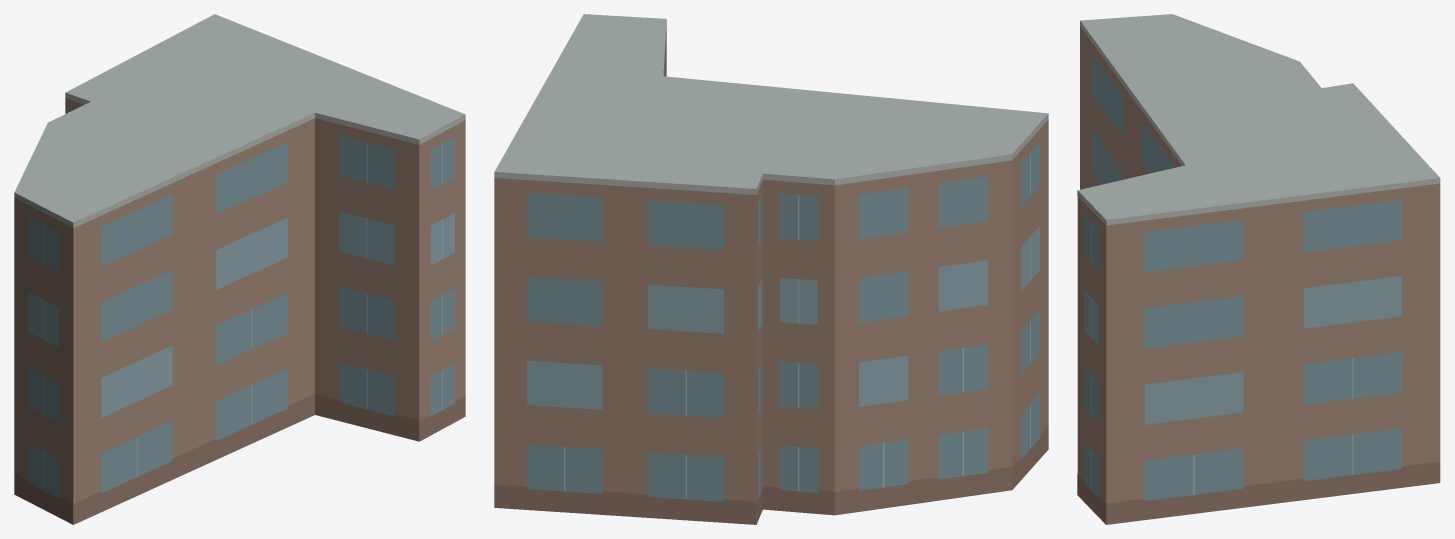
File: survey-upis-32981504.glb
The picture shows the model from 3 angles, left to right: view 1: azimuth 30°, elevation 25°; view 2: azimuth 150°, elevation 25°; view 3: azimuth 270°, elevation 25°; orthographic projection. The views are drawn at different scales.
Visible parts, largest first — view 1: survey-upis-32981504.tmp; view 2: survey-upis-32981504.tmp; view 3: survey-upis-32981504.tmp.
Part boxes in pixels (x1=…): survey-upis-32981504.tmp: x1=14, y1=14, x2=465, y2=524; survey-upis-32981504.tmp: x1=494, y1=14, x2=1048, y2=524; survey-upis-32981504.tmp: x1=1077, y1=14, x2=1440, y2=524.
Size of the model in its own units: 19.69 by 13.58 by 14.66.
